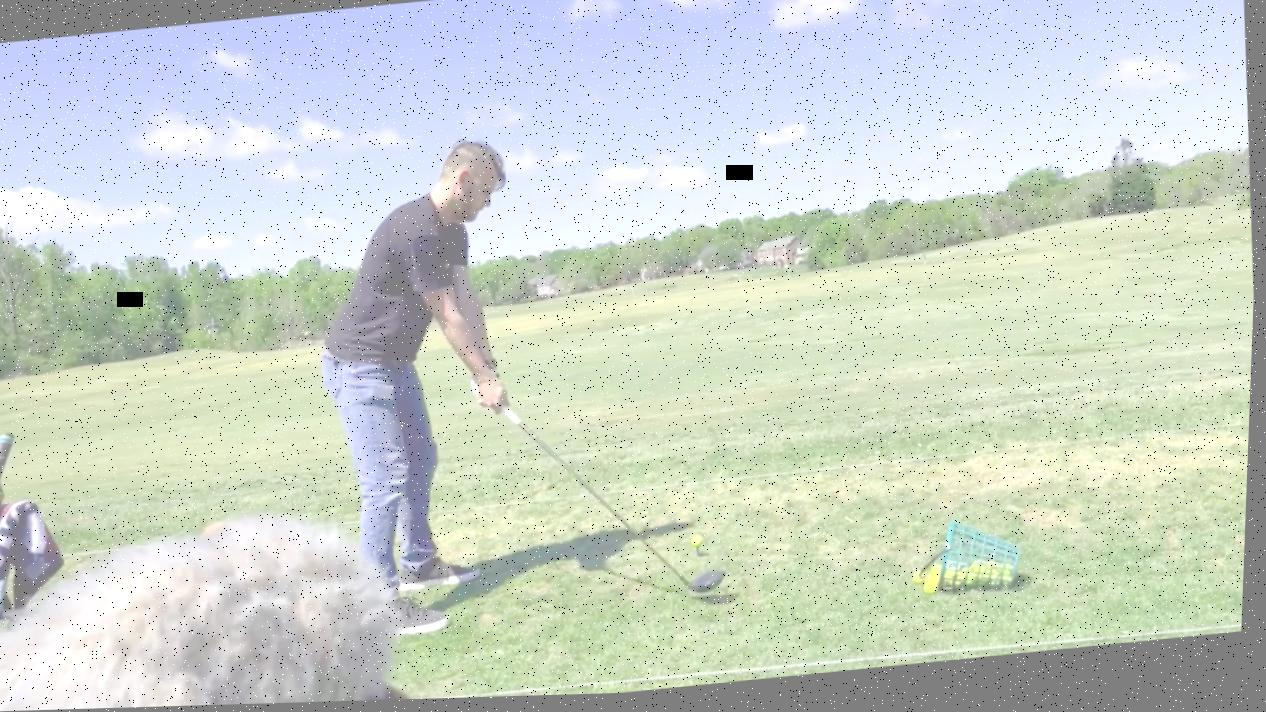ClubHead: (682, 567, 735, 606)
GolfBall: (692, 536, 710, 554)
